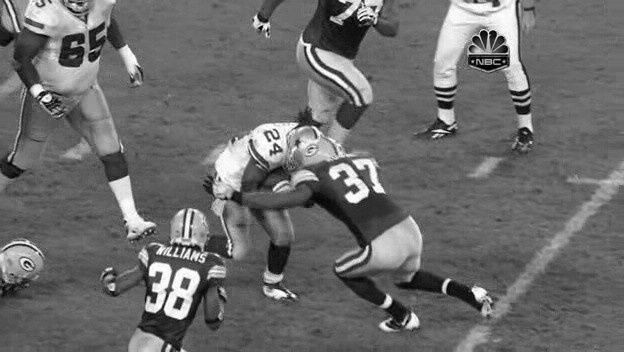person: (287, 125, 319, 166), (286, 125, 318, 166), (288, 125, 320, 166), (287, 124, 319, 165), (287, 126, 319, 167)
target_negative: (94, 57, 428, 244), (134, 265, 411, 330), (266, 2, 324, 122), (541, 209, 595, 247), (327, 151, 342, 279), (171, 25, 177, 76)
